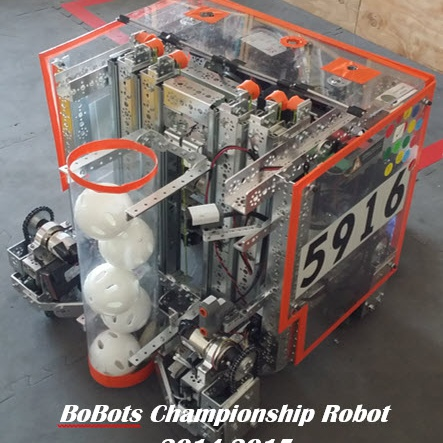robot: (5, 2, 438, 443)
